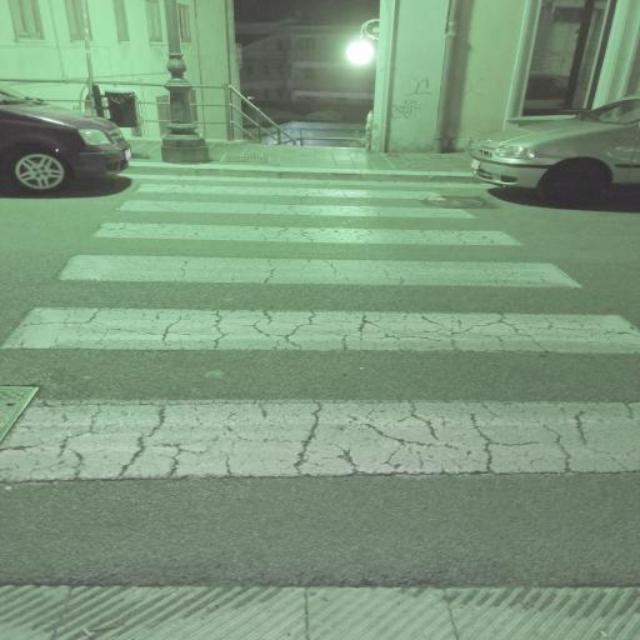sidewalk: (4, 177, 637, 635)
